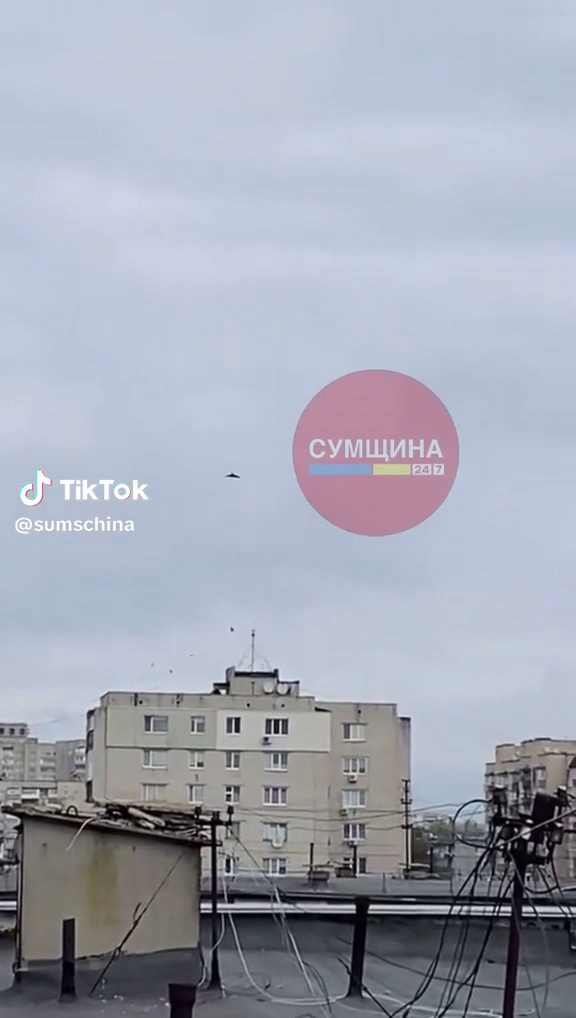shahed: (225, 471, 242, 480)
